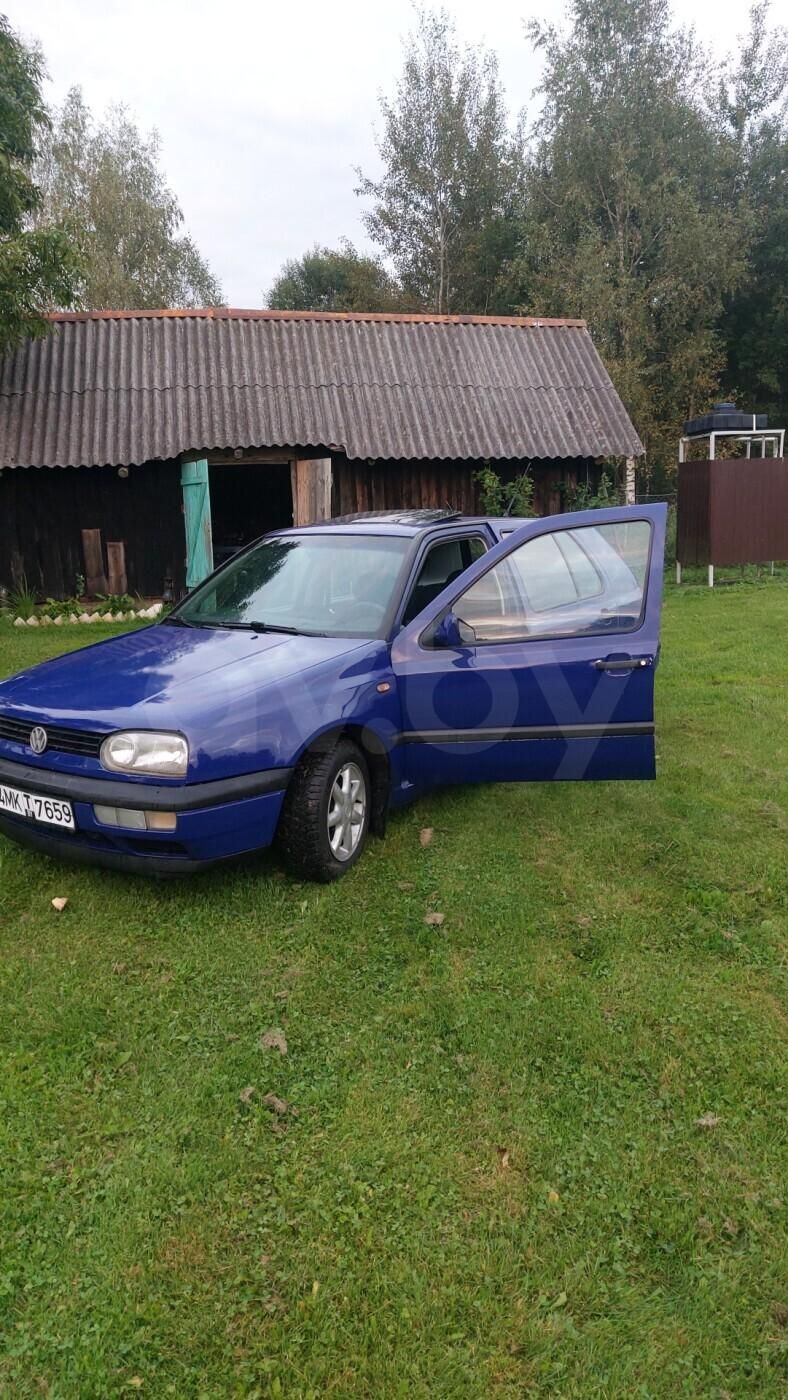Golf_1991-2000: (3, 500, 695, 888)
